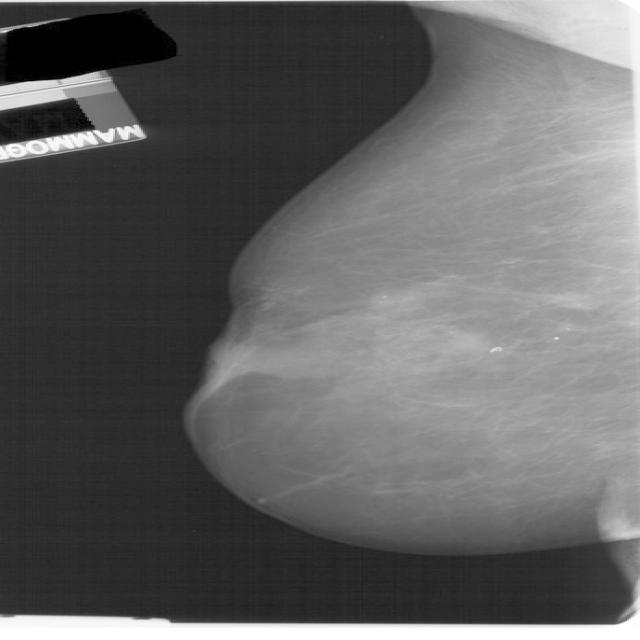tumour: (548, 287, 598, 312)
